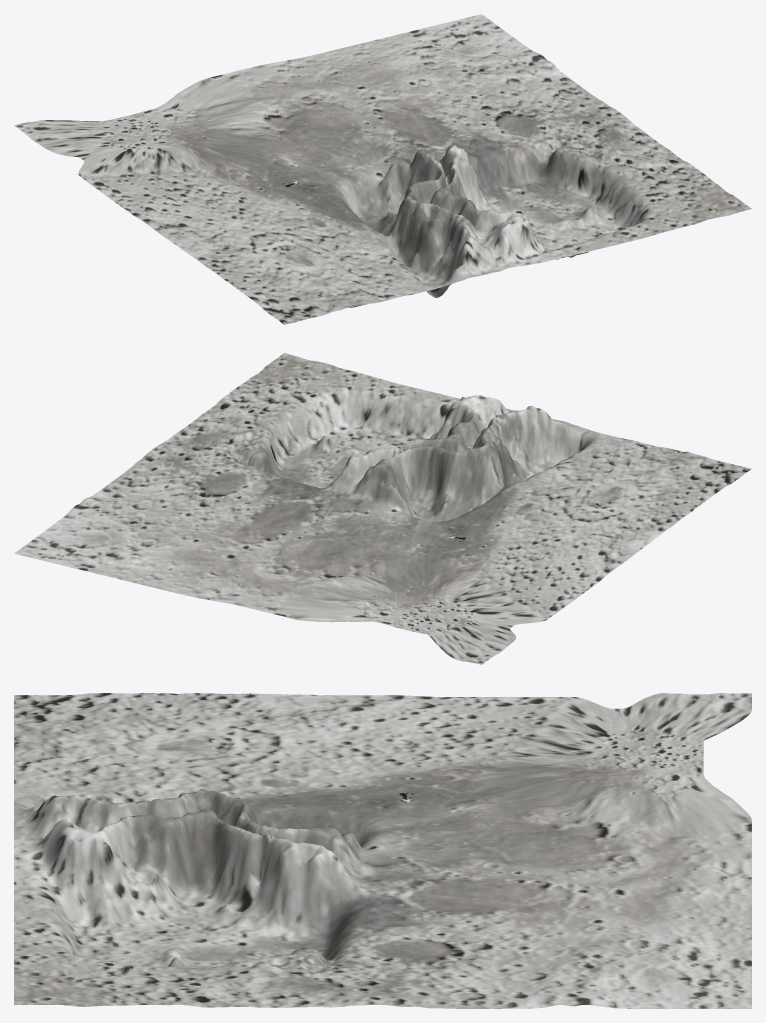
File: plano.fbx
3 views of the same model, one above another, from view 1: azimuth 30°, elevation 25°; view 2: azimuth 150°, elevation 25°; view 3: azimuth 270°, elevation 25° (orthographic). The views are drawn at different scales.
Parts seen in each view (by area): view 1: pPlane1; view 2: pPlane1; view 3: pPlane1.
Boxes of the visible parts, x1,y1,x2,y2 form: pPlane1: (14, 14, 751, 324); pPlane1: (14, 353, 751, 664); pPlane1: (14, 693, 751, 1008).
Bounding box in the file's own units: 100 × 11 × 100.
1 material, 1 textured.
